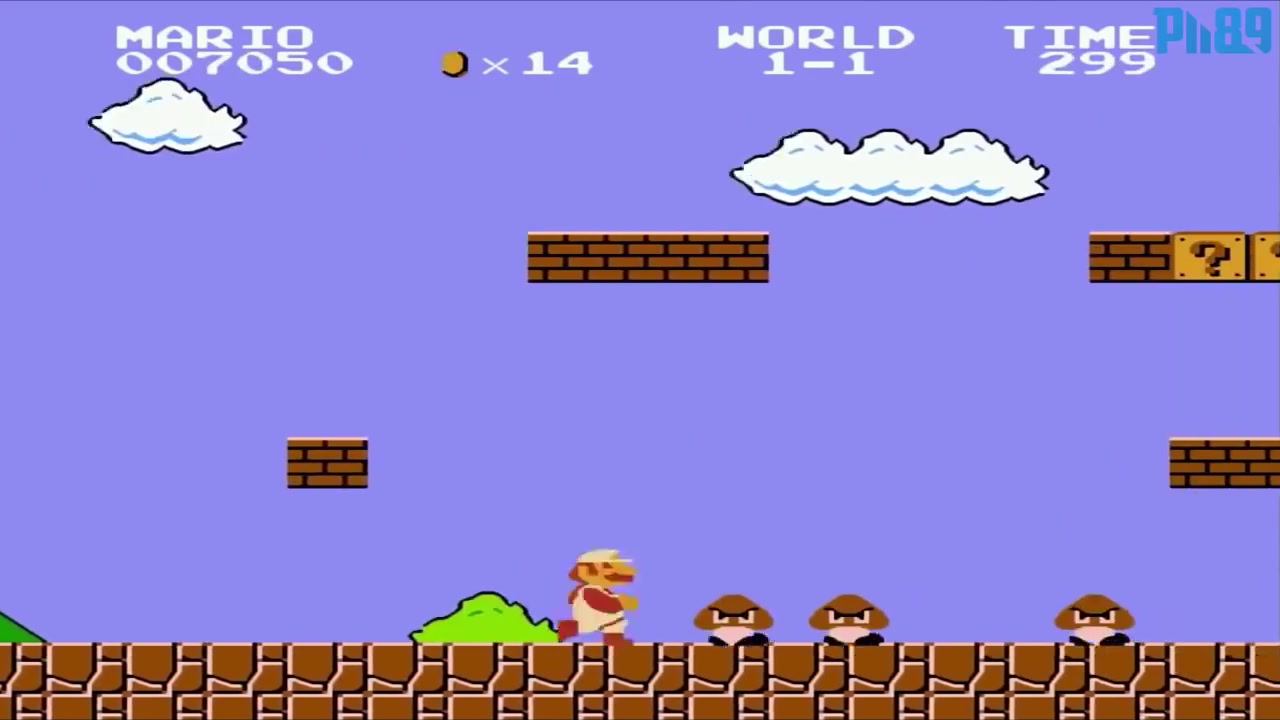mario: (547, 540, 651, 644)
